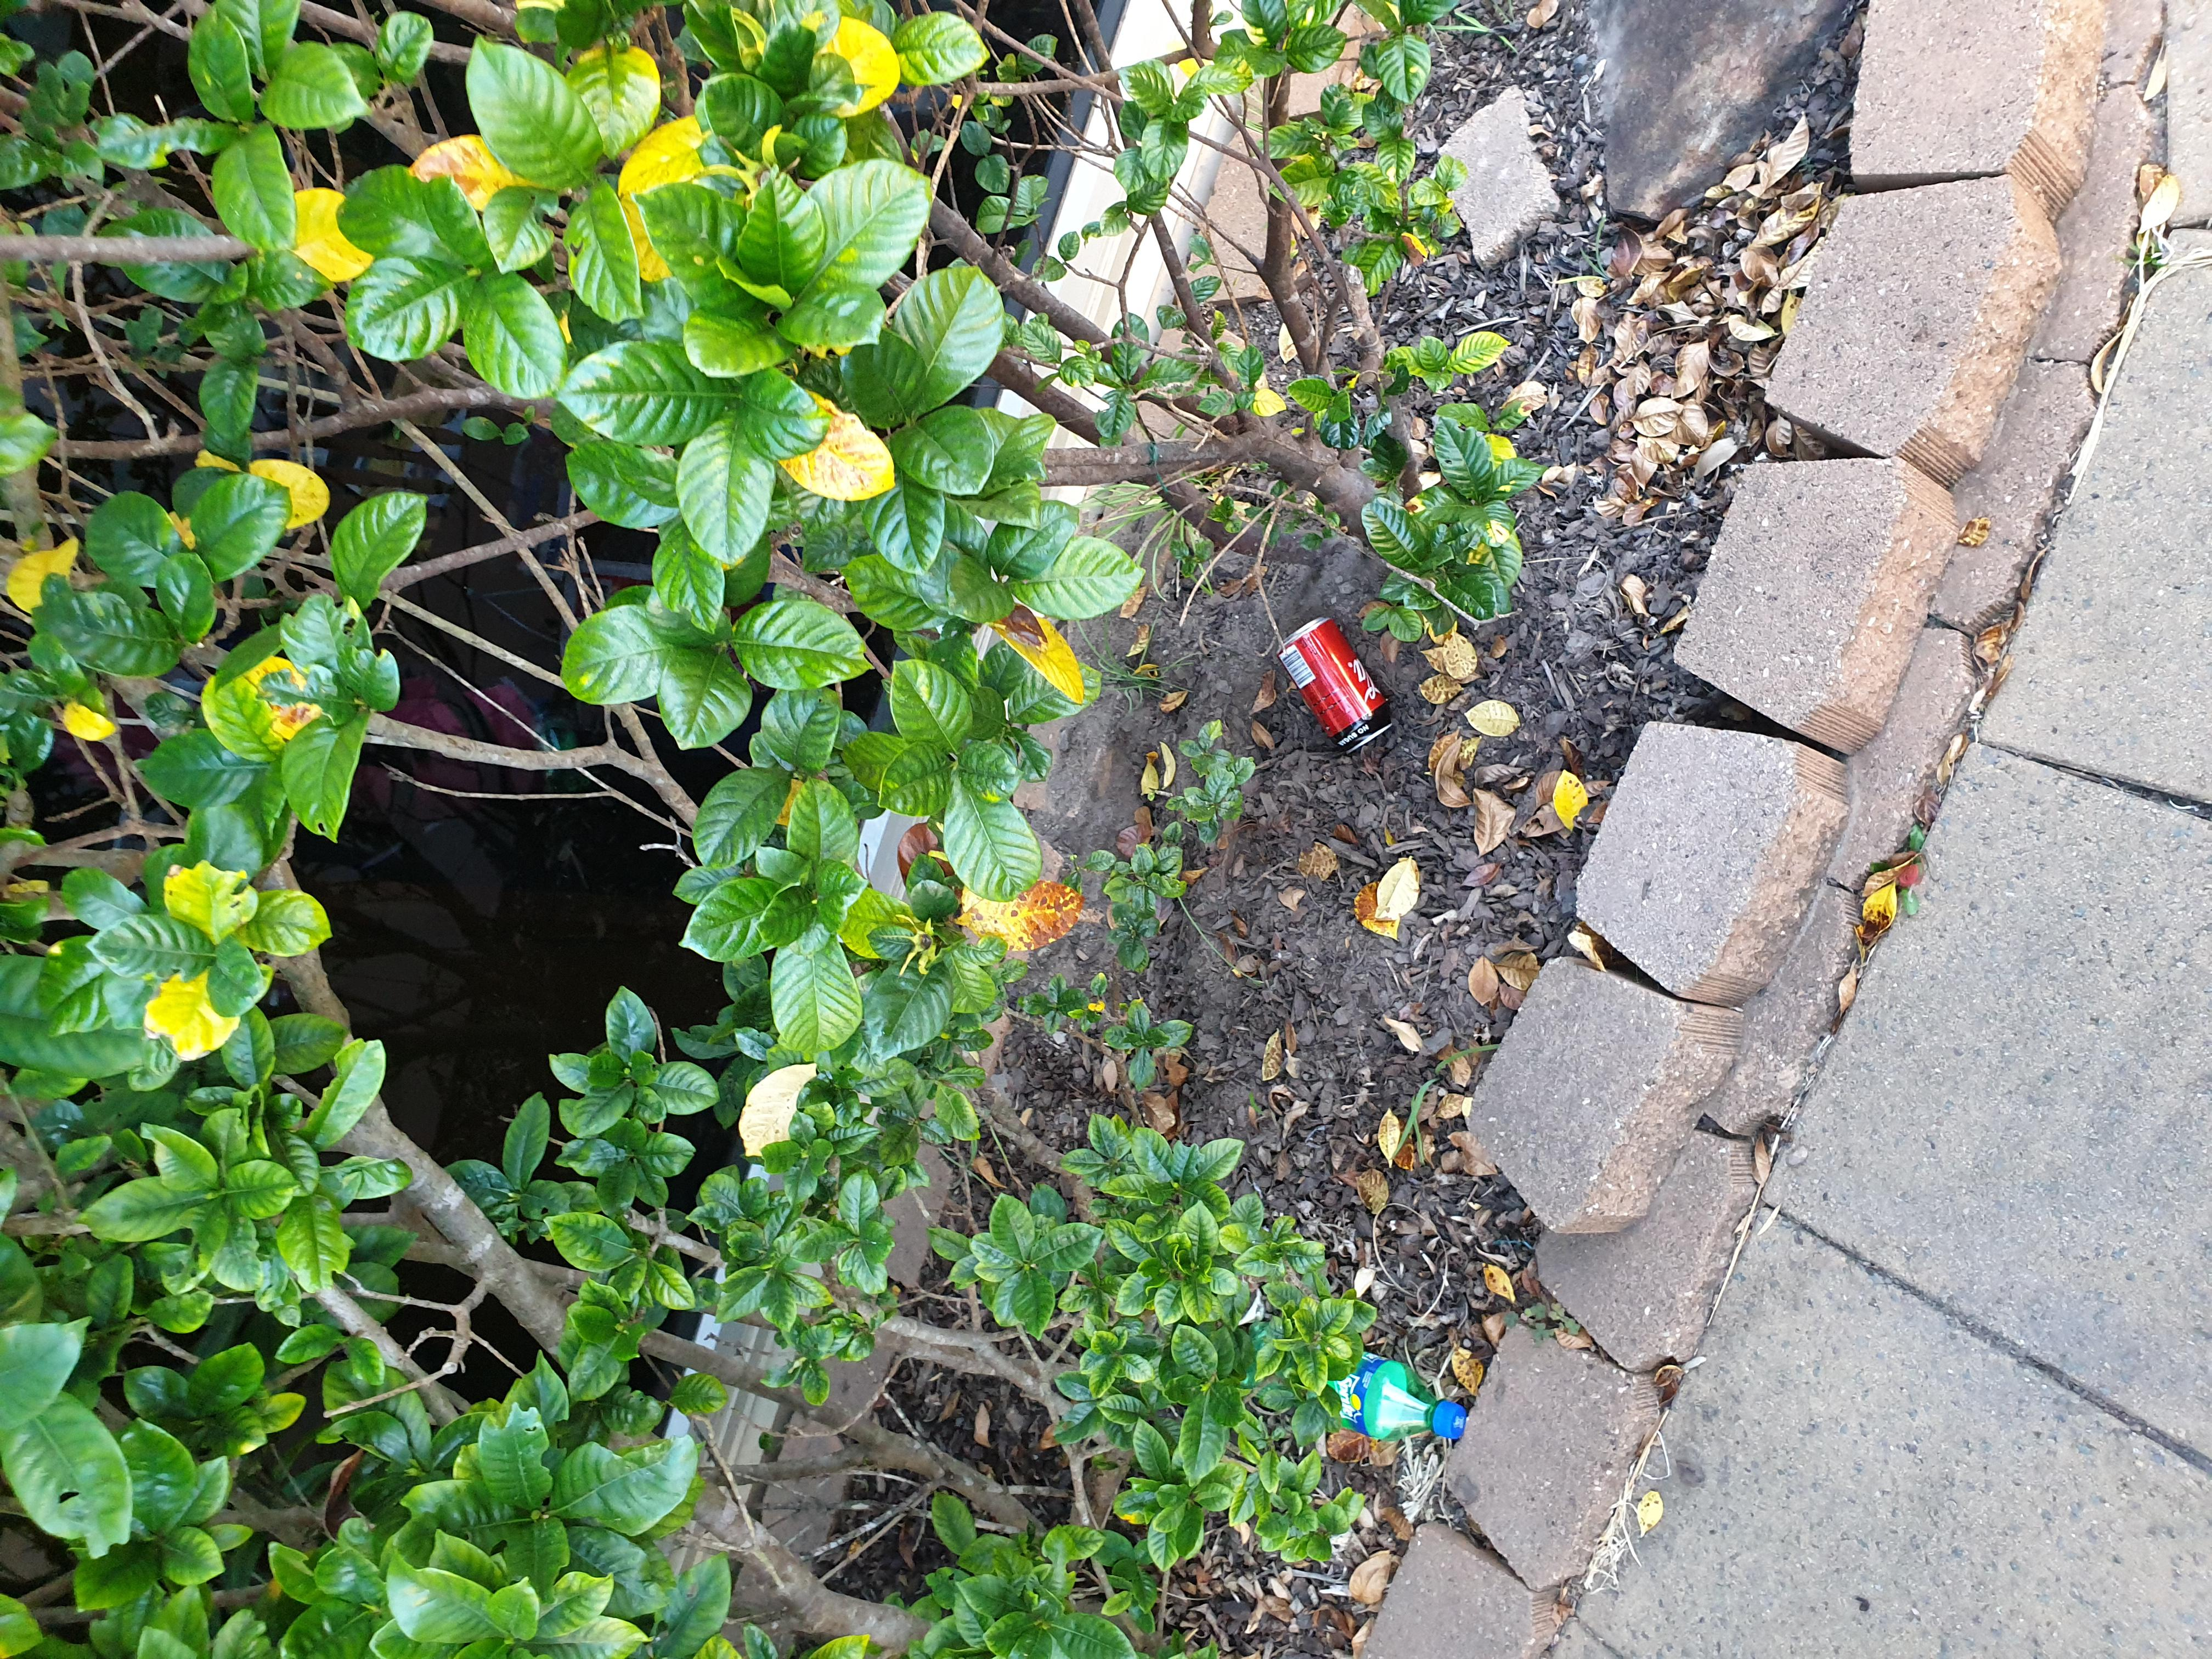Plastic Bottle: (1277, 617, 1392, 749), (1327, 1351, 1465, 1438)
